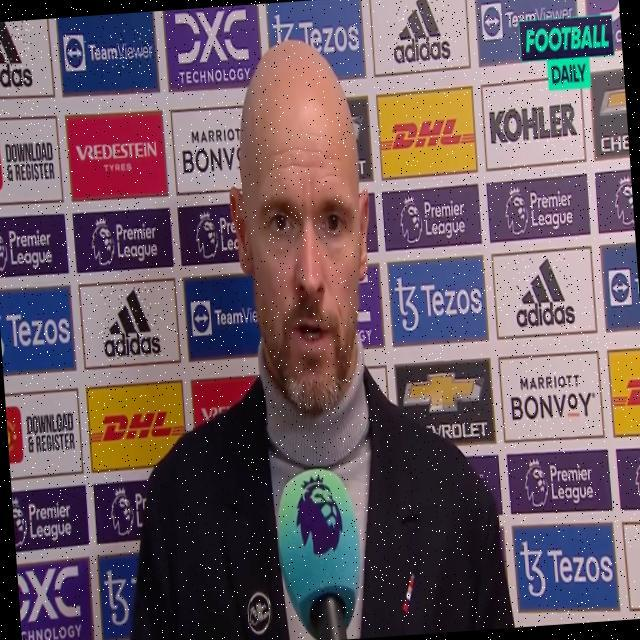Adidas: (512, 254, 578, 329), (98, 285, 163, 360), (387, 0, 452, 66), (0, 19, 34, 92)
Chevrolet: (401, 365, 490, 442)
Kohler: (489, 100, 579, 149)
TeamViewer: (64, 28, 156, 72), (480, 0, 574, 40)
